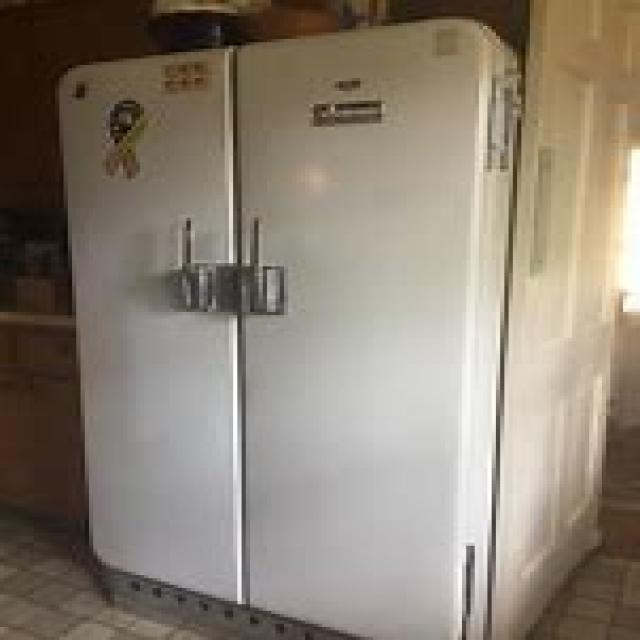fridge: (55, 16, 521, 637)
